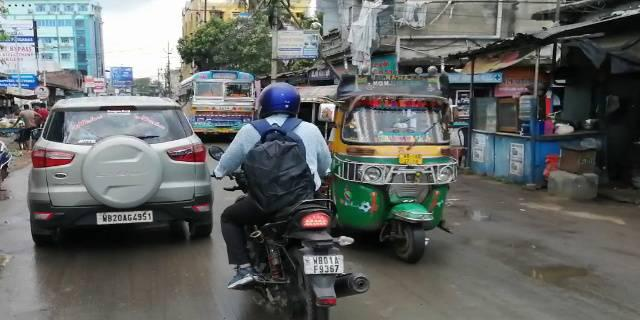Autorickshaw: (333, 83, 459, 259)
Bus: (178, 71, 253, 136)
Car: (27, 90, 212, 247)
Motorbike: (215, 87, 368, 314)
